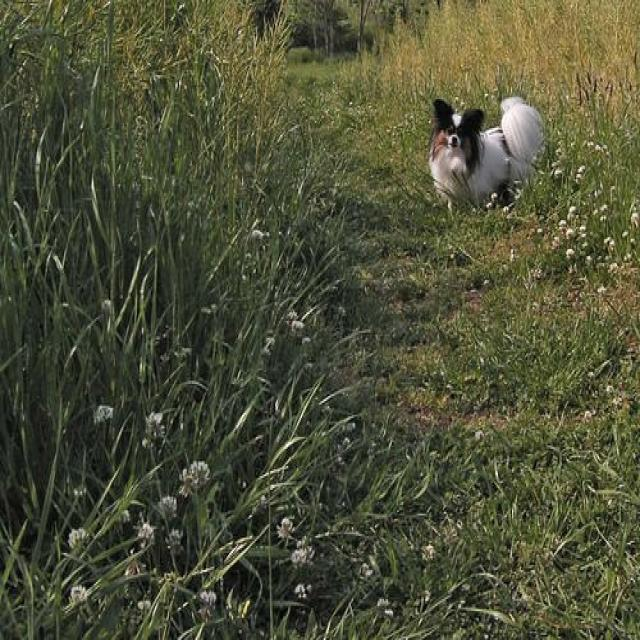papillon: (428, 98, 540, 196)
